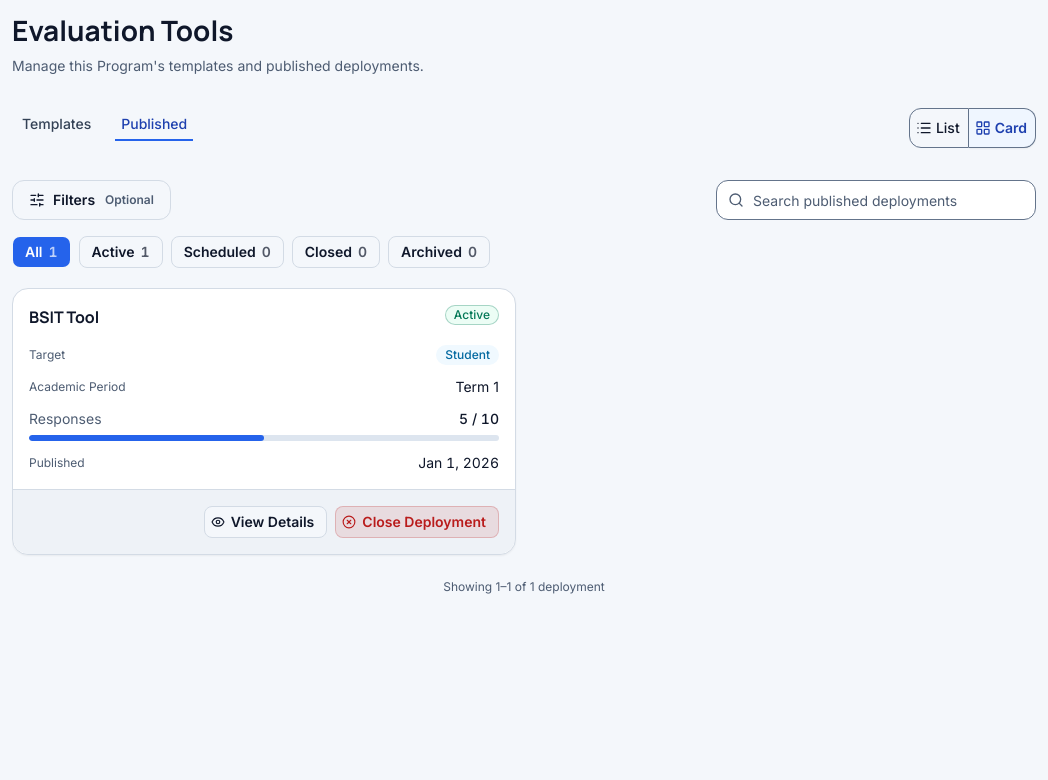
ProgramHeadToolsPage › keeps the status filter row reachable when a status matches nothing
This screenshot has width=1048, height=780.
Click the button "Archived 0". click: (439, 252)
box: x1=388 y1=236 x2=490 y2=268
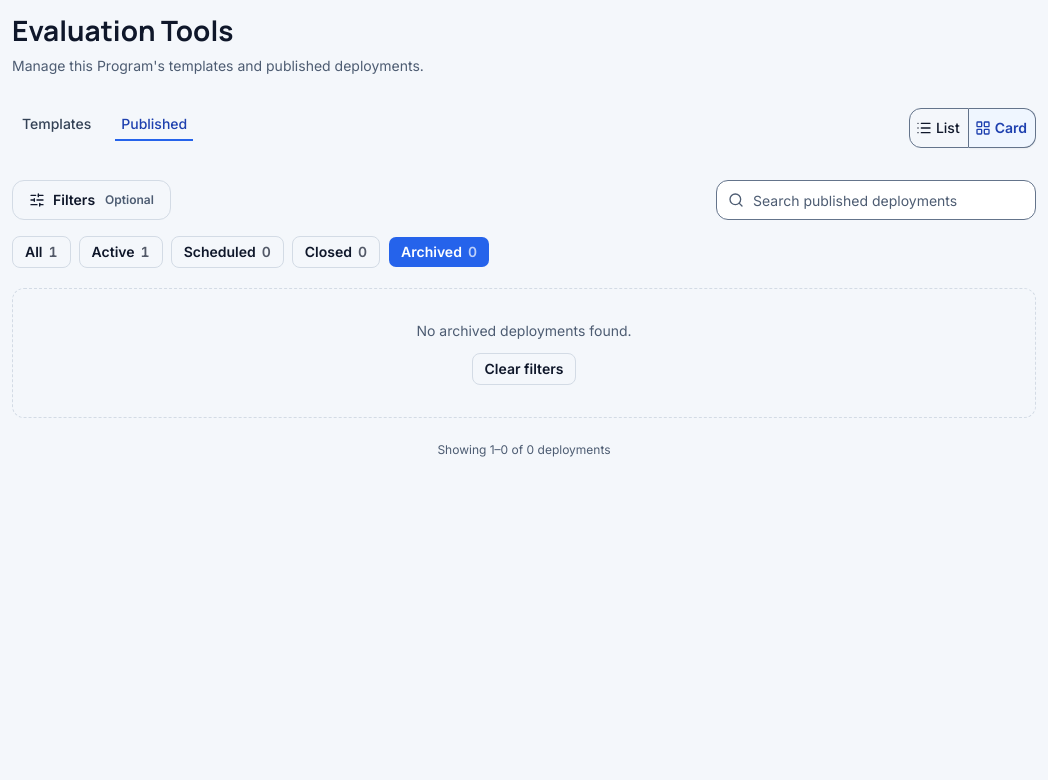
Expected: the element named "filter by deployment status" is shown, x1=12 y1=236 x2=490 y2=268
Click the button "Active 1". click: (121, 252)
box: x1=79 y1=236 x2=163 y2=268
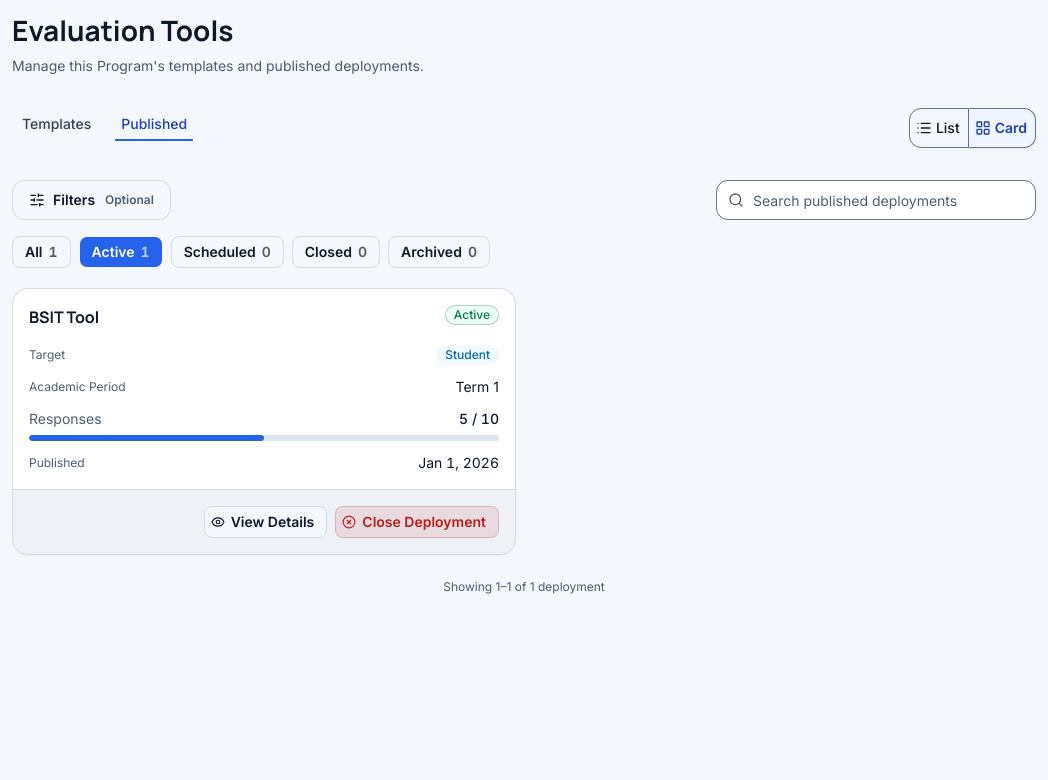
Expected: the text "BSIT Tool" is shown, x1=29 y1=305 x2=99 y2=329
